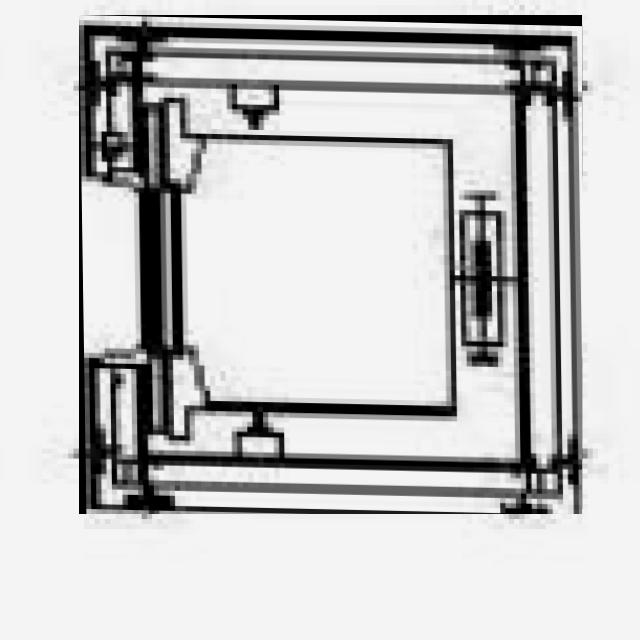lift: (79, 15, 582, 514)
